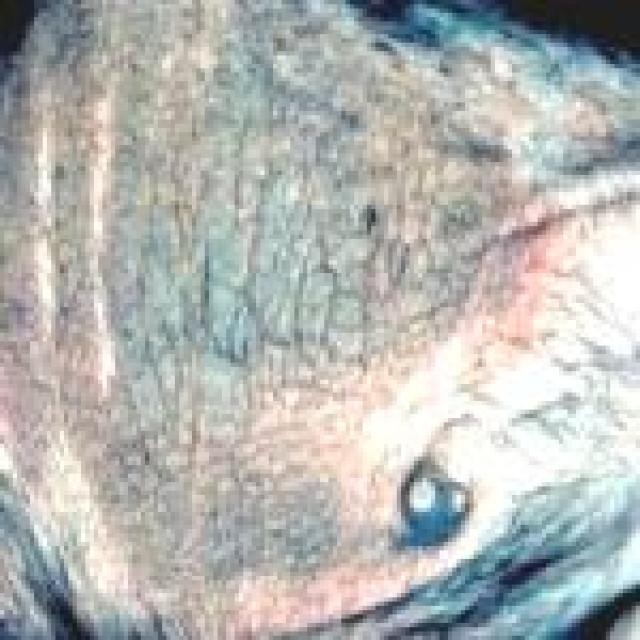fungal infection: (96, 10, 395, 317), (122, 347, 331, 570), (478, 209, 561, 350), (21, 264, 88, 432), (8, 94, 80, 217)
